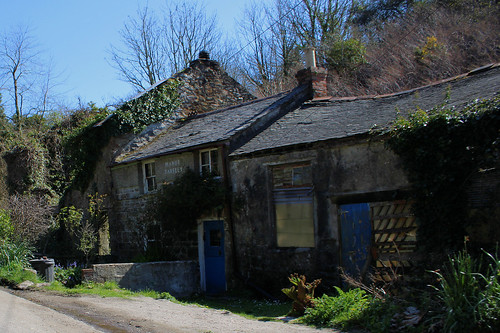building: (237, 73, 500, 292), (109, 87, 298, 287)
sky: (10, 1, 286, 111)
tree: (115, 2, 214, 102), (1, 33, 68, 120)
